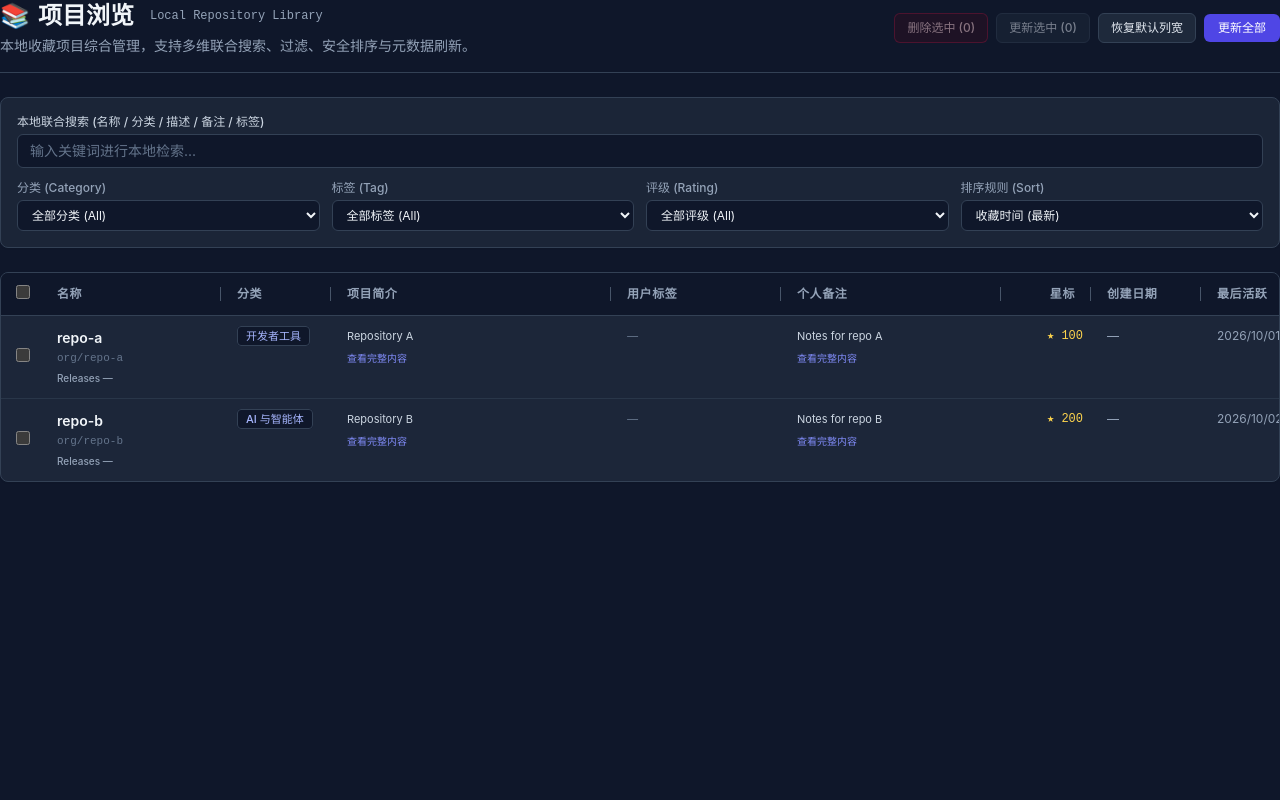
Test: S4 Local Favorites Search — Frontend Lifecycle & Stale Guard › Section 32: deleting a favorite removes it from the search view immediately
Check: the row with test id "library-row-1" is shown, box [1,316,1279,398]
Check: the row with test id "library-row-2" is shown, box [1,398,1279,481]
Select row 1
Click the checkbox with test id "library-row-checkbox-1" at (23, 355), box [16,348,30,362]
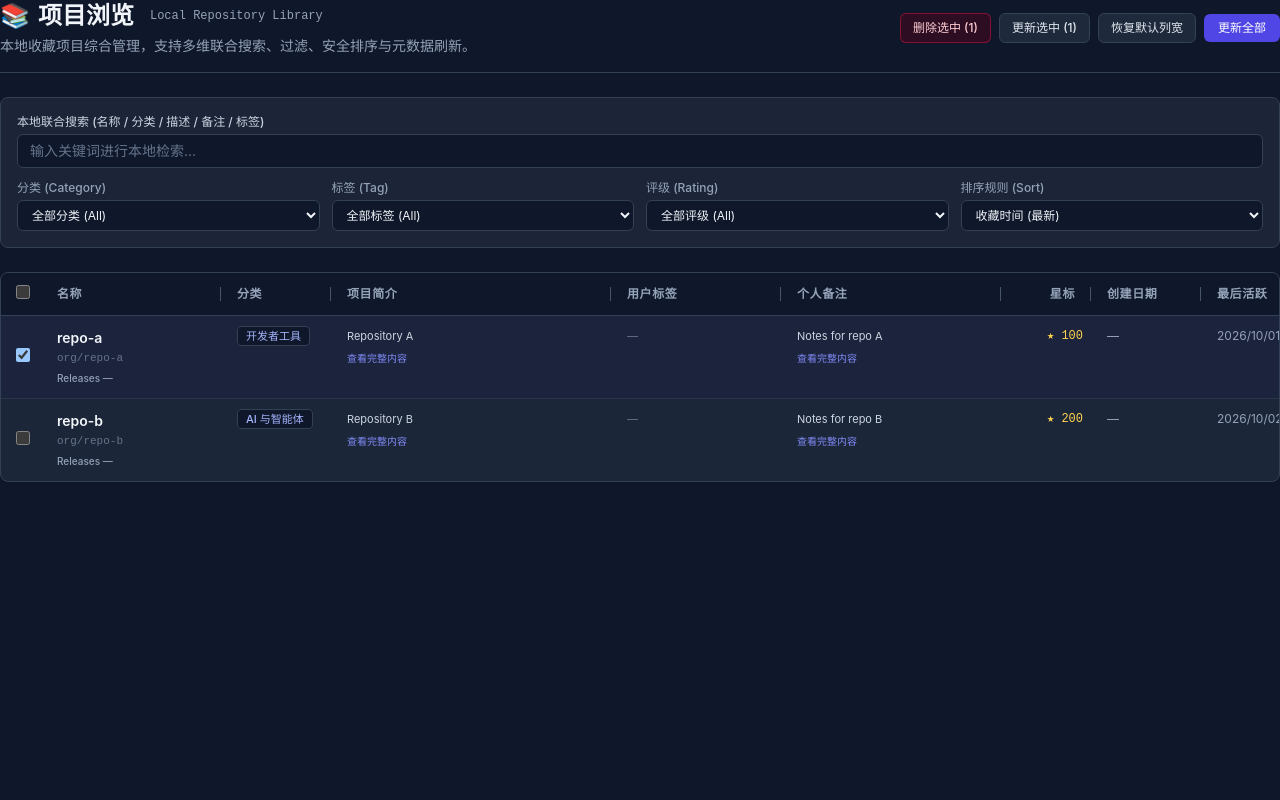
Open delete modal
Click the button with test id "library-delete-selected-btn" at (945, 28), box [900,13,991,43]
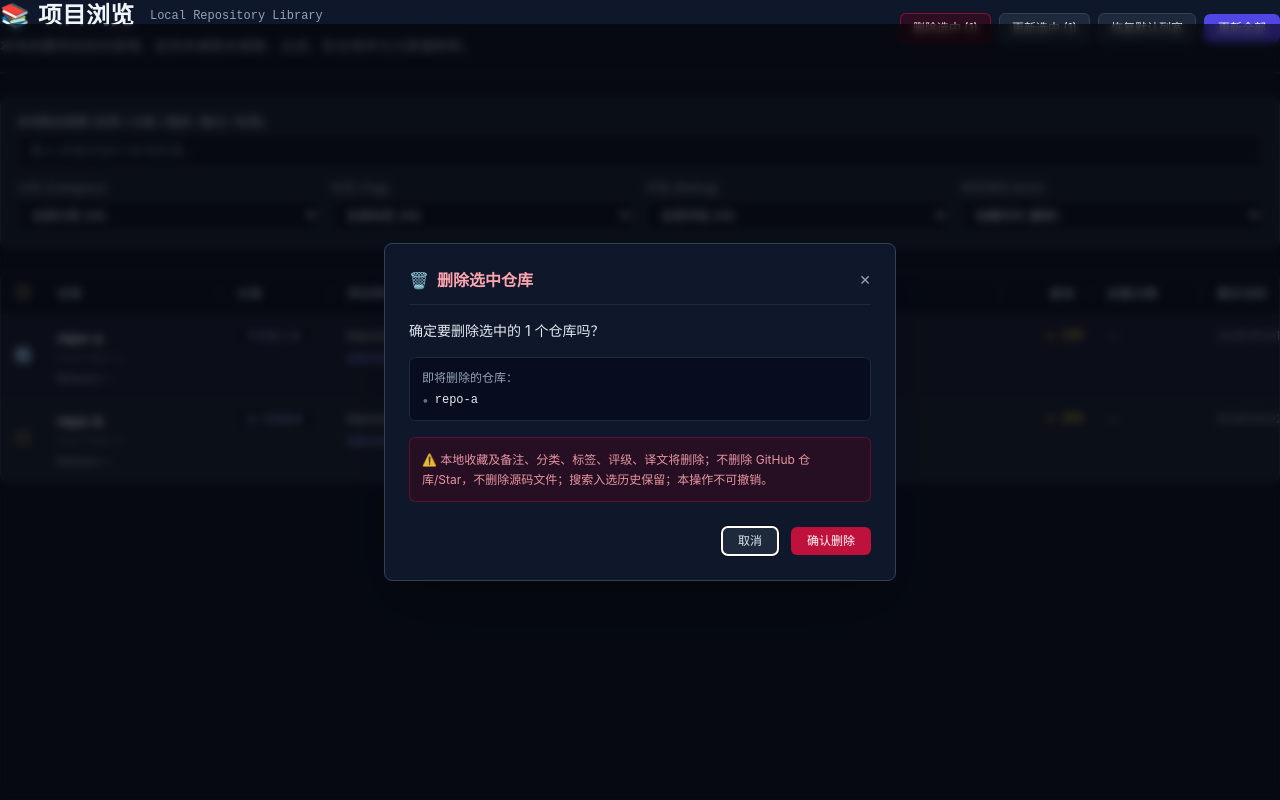
Confirm deletion
Click the button with test id "delete-confirm-submit-btn" at (831, 541), box [791,527,871,555]
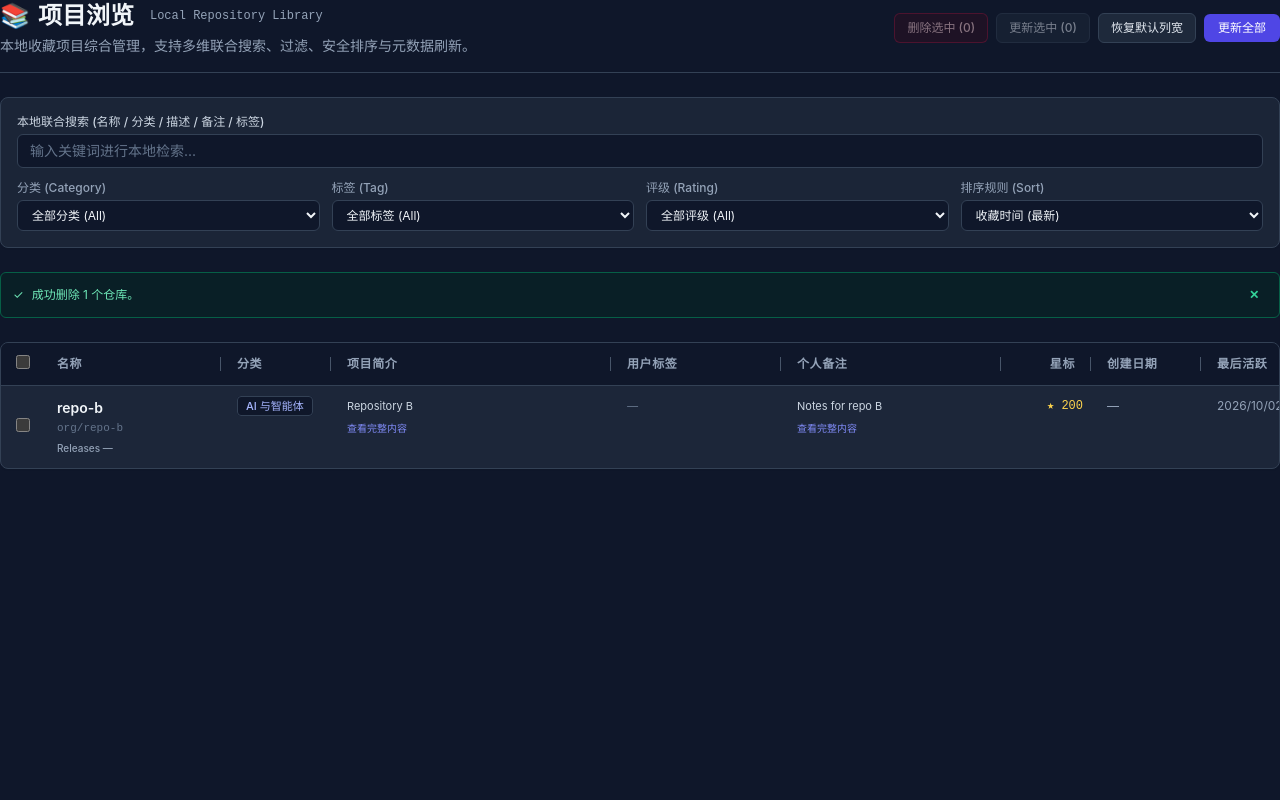
Check: the row with test id "library-row-2" is shown, box [1,386,1279,468]
Check: the row with test id "library-row-1" is gone
